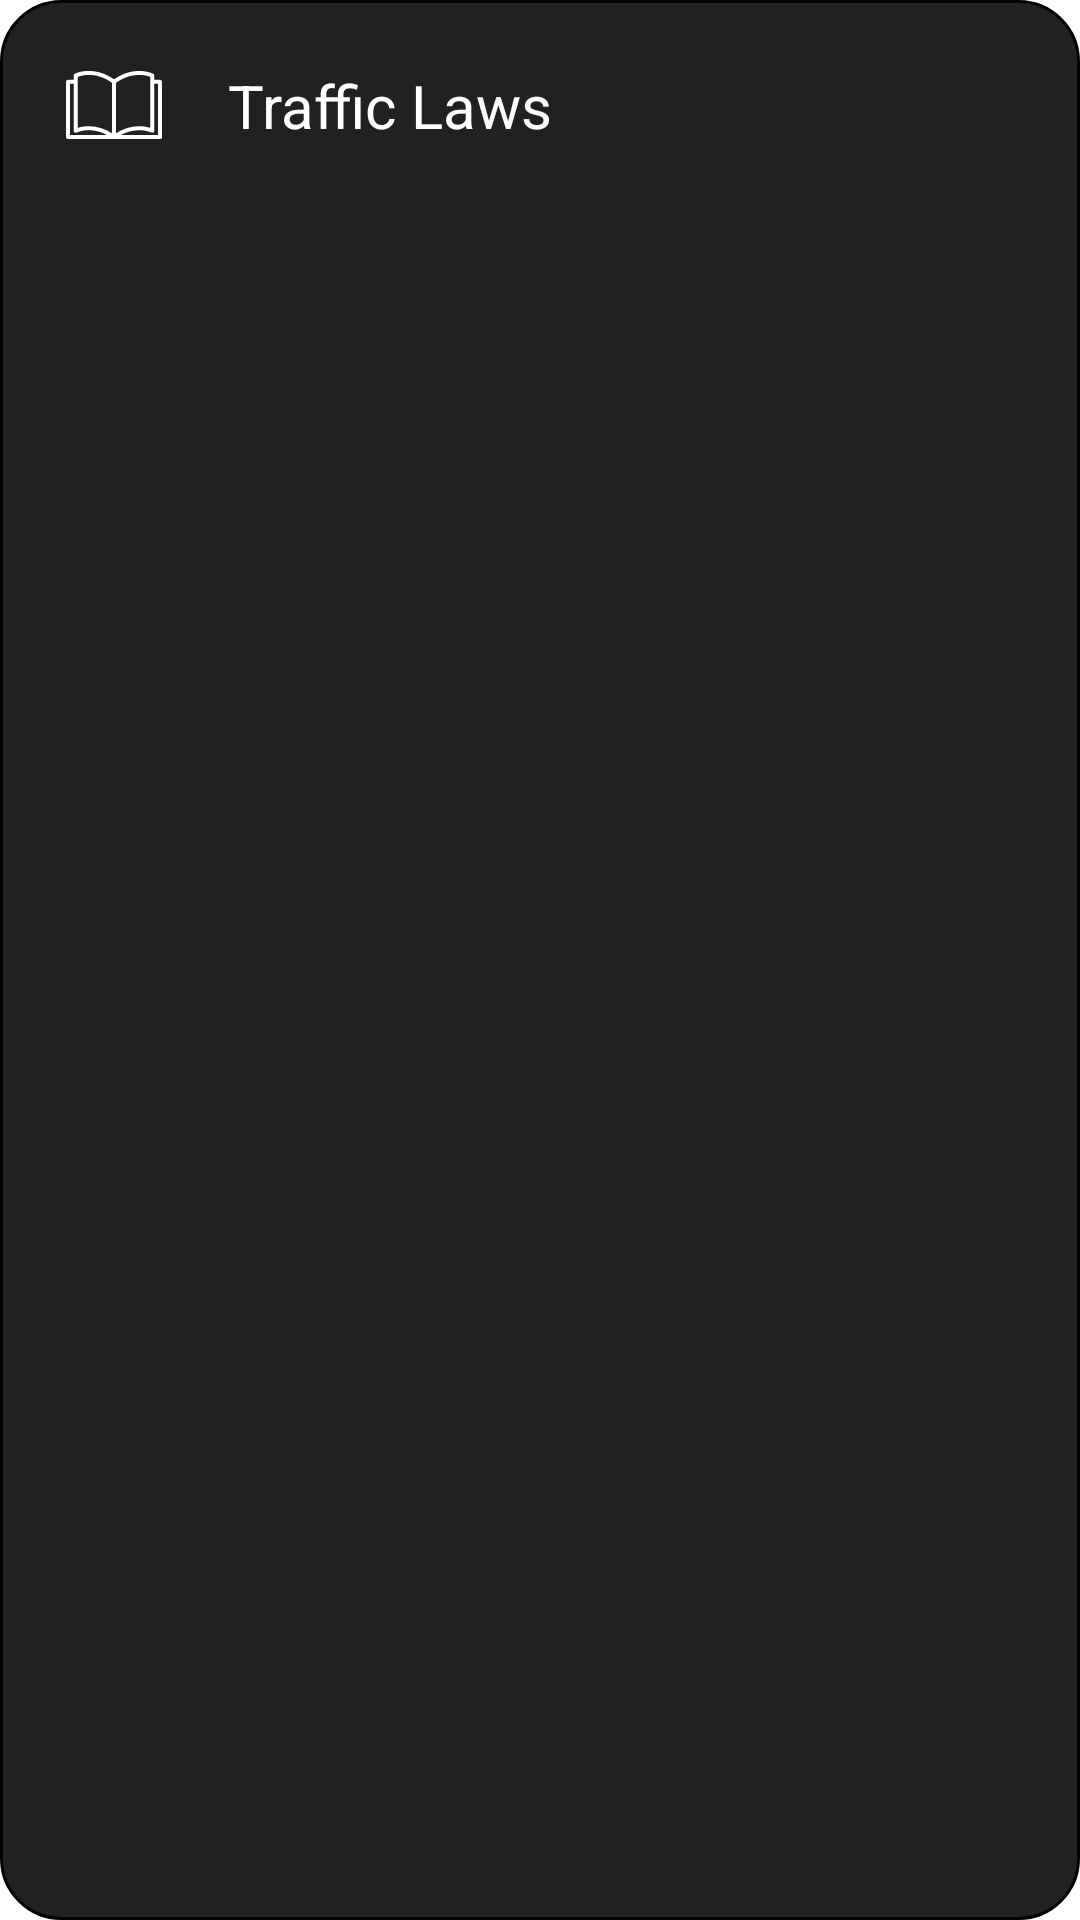

Point at icon controls on the screen. Image size 1080 × 1920, points as point (x, y).
book: point (114, 105)
